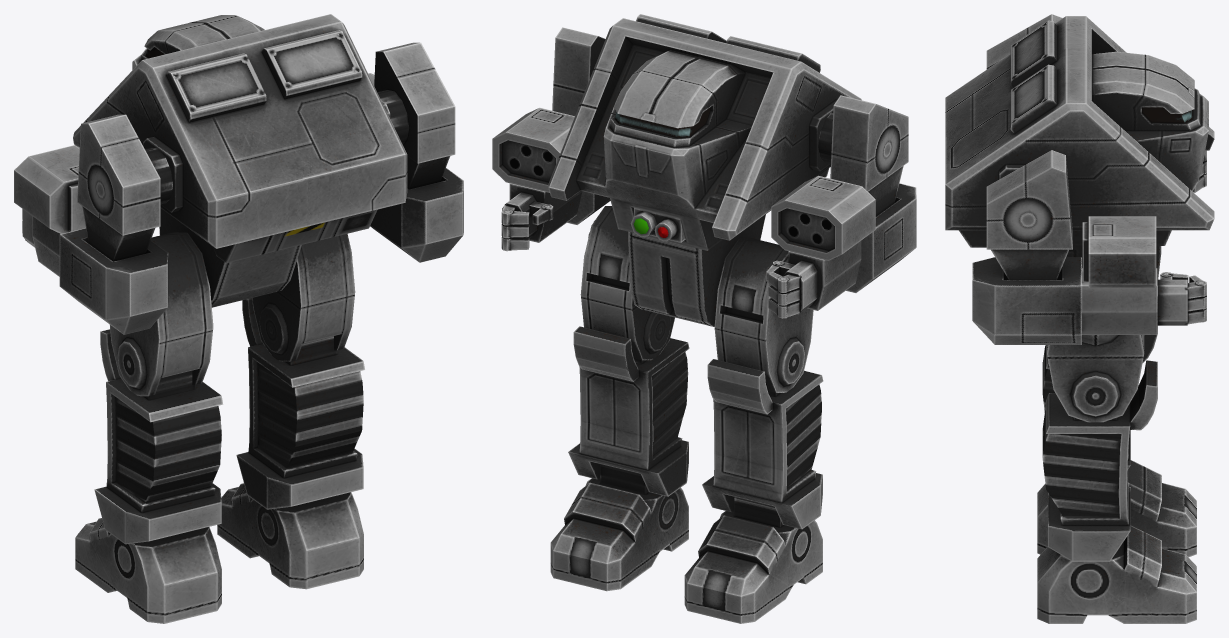
Rendered from Phantom_B.FBX.
3 renders of one model, left to right at view 1: azimuth 30°, elevation 25°; view 2: azimuth 150°, elevation 25°; view 3: azimuth 270°, elevation 25°, orthographic. The views are drawn at different scales.
Visible parts, largest first — view 1: torso, llowerleg, rlowerleg, llowerarm, lfoot, rfoot, lupperarm, lupperleg, rupperleg, rupperarm, rlowerarm, pelvis; view 2: torso, llowerleg, rlowerleg, llowerarm, rfoot, lfoot, lupperleg, pelvis, lupperarm, rupperleg, rlowerarm, rupperarm (+3 smaller); view 3: torso, rlowerarm, rlowerleg, rfoot, rupperarm, rupperleg, lfoot, rhand, llowerleg, lupperarm.
Part boxes in pixels (left/top/right/bottom): torso: left=73, top=14, right=407, bottom=263; llowerleg: left=94, top=329, right=223, bottom=544; rlowerleg: left=236, top=298, right=364, bottom=509; llowerarm: left=14, top=145, right=168, bottom=334; lfoot: left=75, top=518, right=221, bottom=623; rfoot: left=217, top=483, right=363, bottom=589; lupperarm: left=77, top=114, right=172, bottom=261; lupperleg: left=110, top=232, right=213, bottom=396; rupperleg: left=252, top=233, right=355, bottom=361; rupperarm: left=374, top=42, right=455, bottom=189; rlowerarm: left=368, top=73, right=463, bottom=262; pelvis: left=159, top=208, right=301, bottom=307; torso: left=548, top=14, right=861, bottom=250; llowerleg: left=702, top=359, right=823, bottom=529; rlowerleg: left=568, top=326, right=689, bottom=496; llowerarm: left=771, top=175, right=916, bottom=310; rfoot: left=550, top=464, right=688, bottom=591; lfoot: left=684, top=497, right=822, bottom=623; lupperleg: left=714, top=238, right=813, bottom=392; pelvis: left=628, top=214, right=765, bottom=326; lupperarm: left=818, top=95, right=908, bottom=216; rupperleg: left=580, top=206, right=674, bottom=360; rlowerarm: left=492, top=107, right=610, bottom=242; rupperarm: left=552, top=27, right=605, bottom=116; torso: left=945, top=16, right=1214, bottom=247; rlowerarm: left=972, top=216, right=1157, bottom=344; rlowerleg: left=1042, top=360, right=1157, bottom=561; rfoot: left=1037, top=525, right=1196, bottom=623; rupperarm: left=986, top=150, right=1072, bottom=280; rupperleg: left=1047, top=263, right=1144, bottom=422; lfoot: left=1037, top=460, right=1196, bottom=557; rhand: left=1157, top=272, right=1206, bottom=325; llowerleg: left=1042, top=296, right=1157, bottom=469; lupperarm: left=986, top=14, right=1062, bottom=69.
Size of the model in its own units: 35.27 by 49.47 by 23.45.
1 material, 1 textured.
